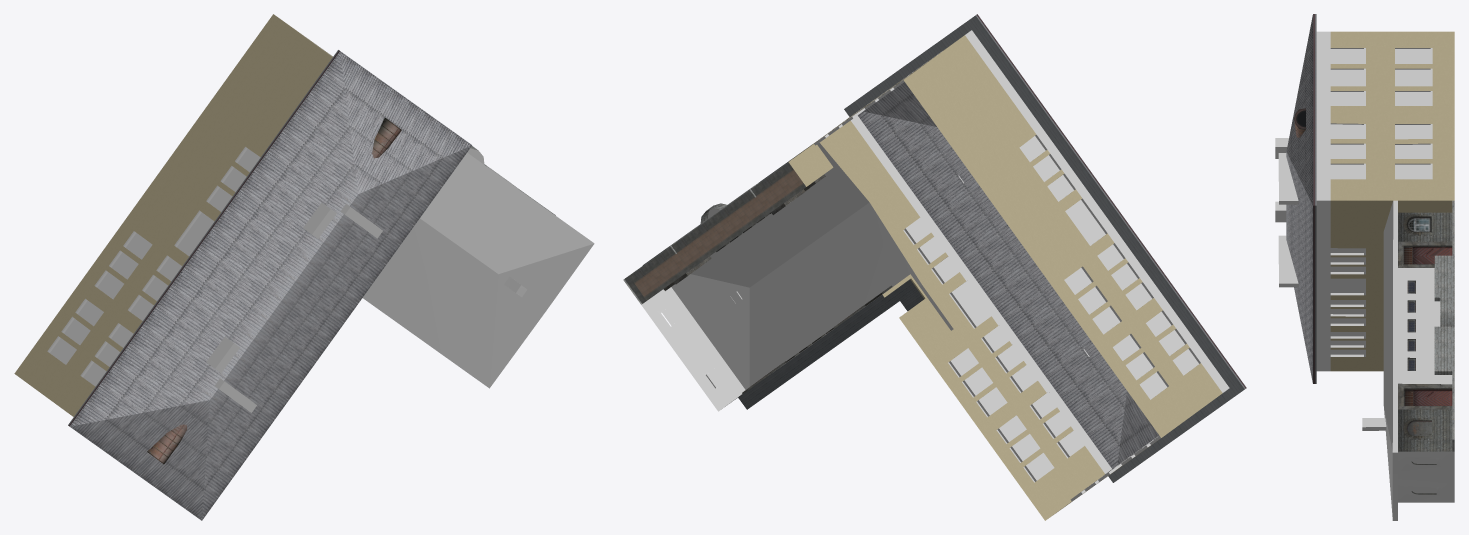
File: Estonia_pst_6_2.obj
The picture shows the model from 3 angles, left to right: view 1: azimuth 30°, elevation 25°; view 2: azimuth 150°, elevation 25°; view 3: azimuth 270°, elevation 25°; orthographic projection.
Parts seen in each view (by area): view 1: Estonia_pst_6_2; view 2: Estonia_pst_6_2; view 3: Estonia_pst_6_2.
Boxes of the visible parts, box(x1,y1,x2,y2) form: Estonia_pst_6_2: box(14, 14, 594, 520); Estonia_pst_6_2: box(623, 14, 1246, 520); Estonia_pst_6_2: box(1275, 14, 1454, 520).
Bounding box in the file's own units: 39.33 × 29.03 × 10.79.
